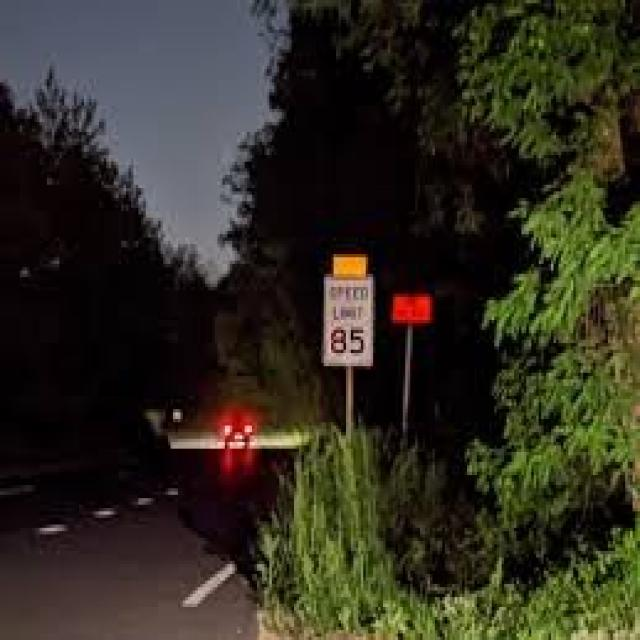speedLimit85: (322, 276, 377, 371)
